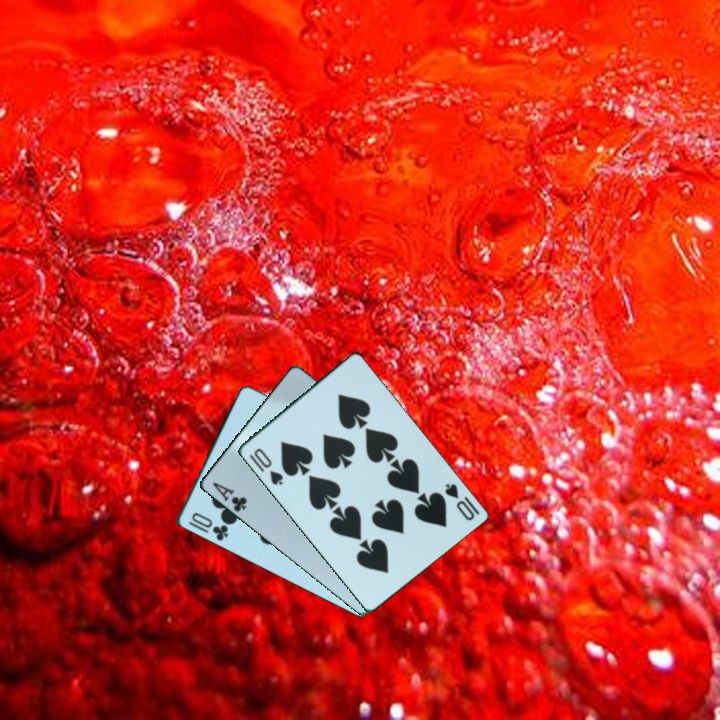10c: (187, 509, 231, 544)
10s: (245, 444, 286, 488), (441, 480, 482, 524)
Ac: (208, 478, 250, 515)
